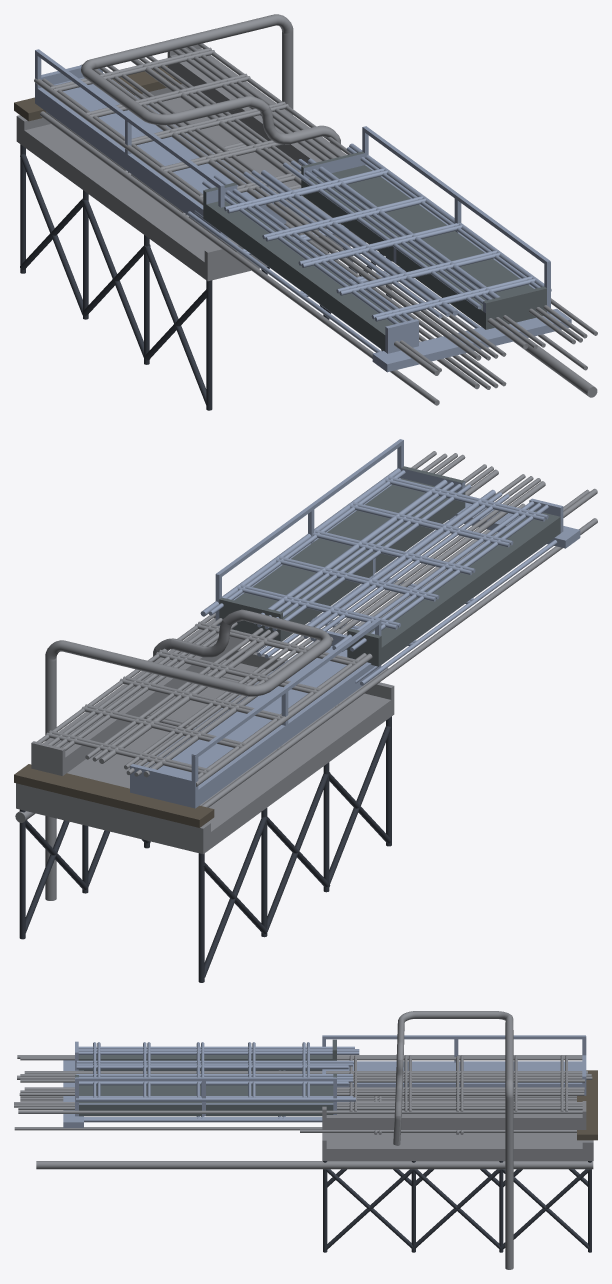
3 renders of one model, top to bottom at view 1: azimuth 30°, elevation 25°; view 2: azimuth 150°, elevation 25°; view 3: azimuth 270°, elevation 25°, orthographic. The views are drawn at different scales.
Parts seen in each view (by area): view 1: _1.2, pasted__pasted__group_pasted__group7_group9_pasted__pasted__; view 2: _1.2, pasted__pasted__group_pasted__group7_group9_pasted__pasted__; view 3: _1.2, pasted__pasted__group_pasted__group7_group9_pasted__pasted__.
Part boxes in pixels (x1=…): _1.2: x1=14, y1=14, x2=597, y2=410; pasted__pasted__group_pasted__group7_group9_pasted__pasted__: x1=187, y1=126, x2=571, y2=372; _1.2: x1=14, y1=451, x2=597, y2=982; pasted__pasted__group_pasted__group7_group9_pasted__pasted__: x1=200, y1=439, x2=580, y2=685; _1.2: x1=14, y1=1011, x2=597, y2=1269; pasted__pasted__group_pasted__group7_group9_pasted__pasted__: x1=63, y1=1039, x2=359, y2=1127.
Size of the model in its own units: 0.5135 by 0.5818 by 1.66.
